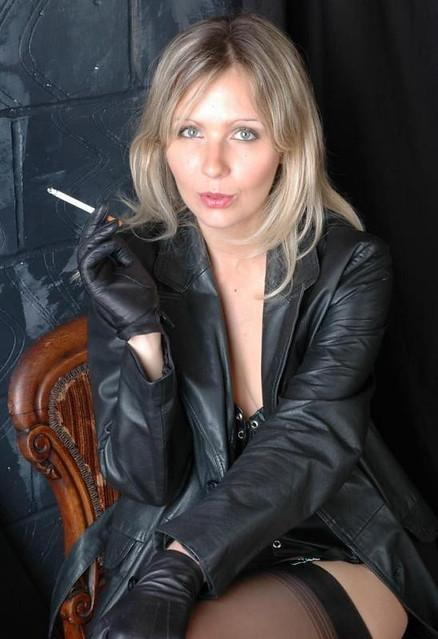cigarette: (47, 186, 124, 233)
